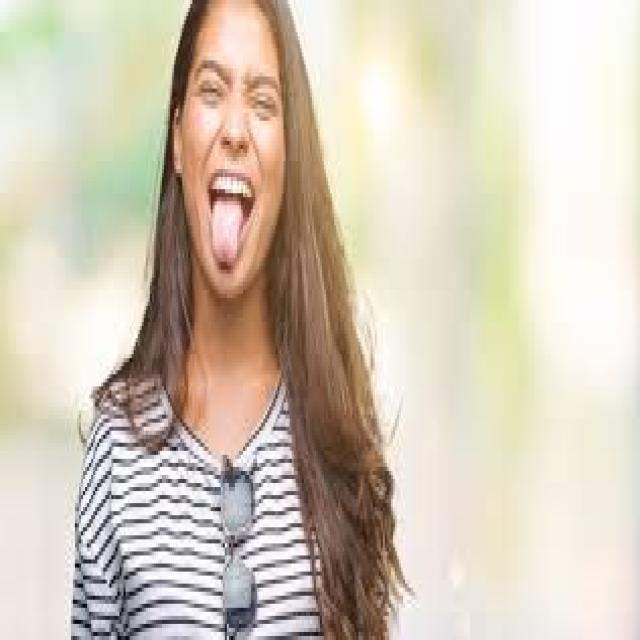tongue: (207, 193, 245, 272)
